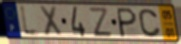4: (70, 5, 87, 39)
C: (137, 8, 162, 39)
L: (18, 3, 43, 39)
P: (117, 7, 139, 39)
X: (38, 5, 64, 38)
Z: (87, 6, 114, 38)
